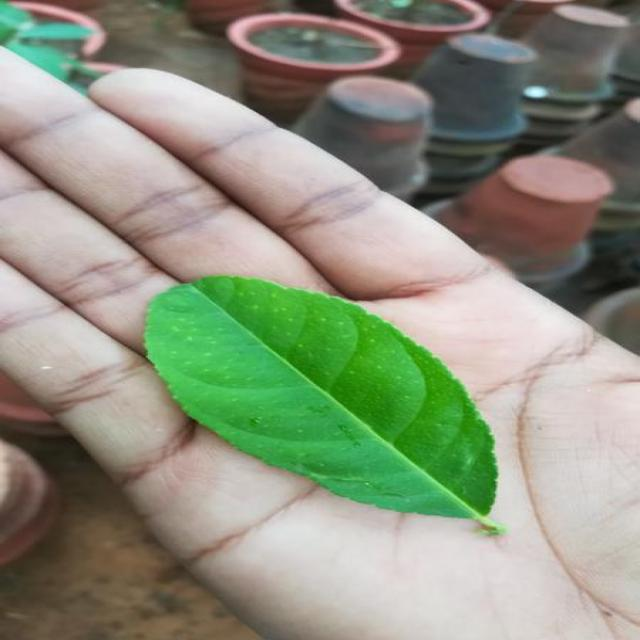badipala: (145, 276, 500, 531)
